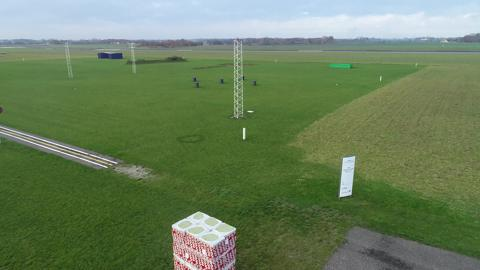RockwoolPallet: (170, 211, 238, 270)
